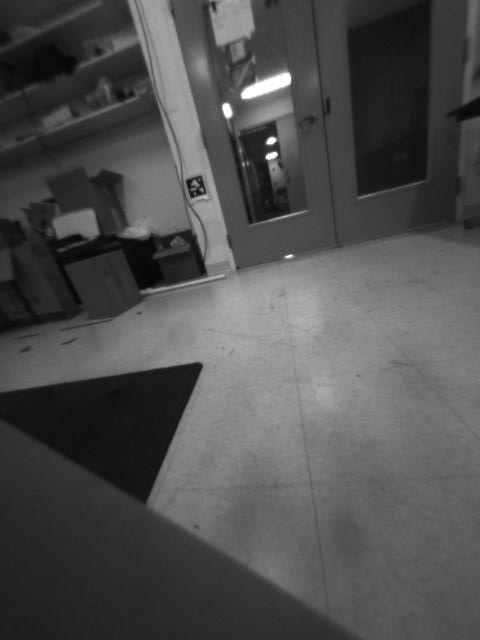door_handle: (292, 106, 320, 132)
